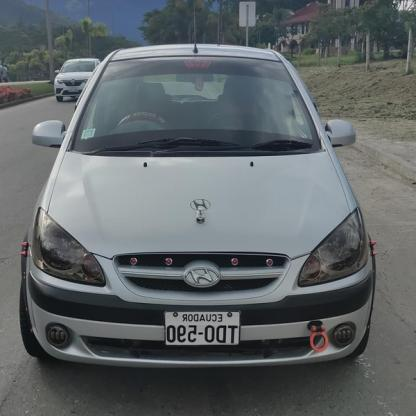Placa: (161, 306, 248, 354)
